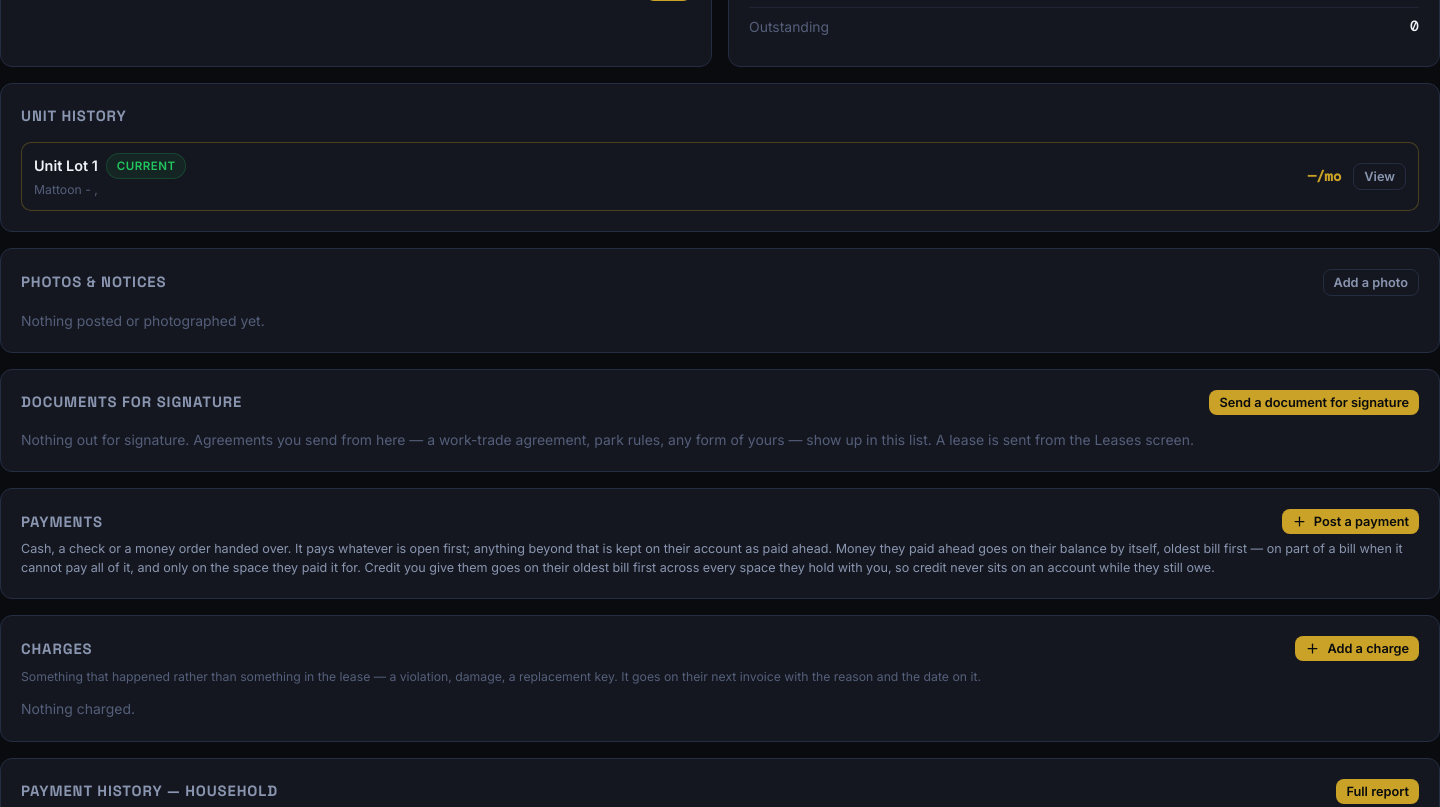
Scenario: the resident page's signing door › has nothing to send when every form needs somebody this page cannot fill
(page scrolled)
What coordinates should you click on to do the following:
click the button "Send a document for signature"
I would click on:
 (1314, 402)
Its box is [1209,390,1419,415].
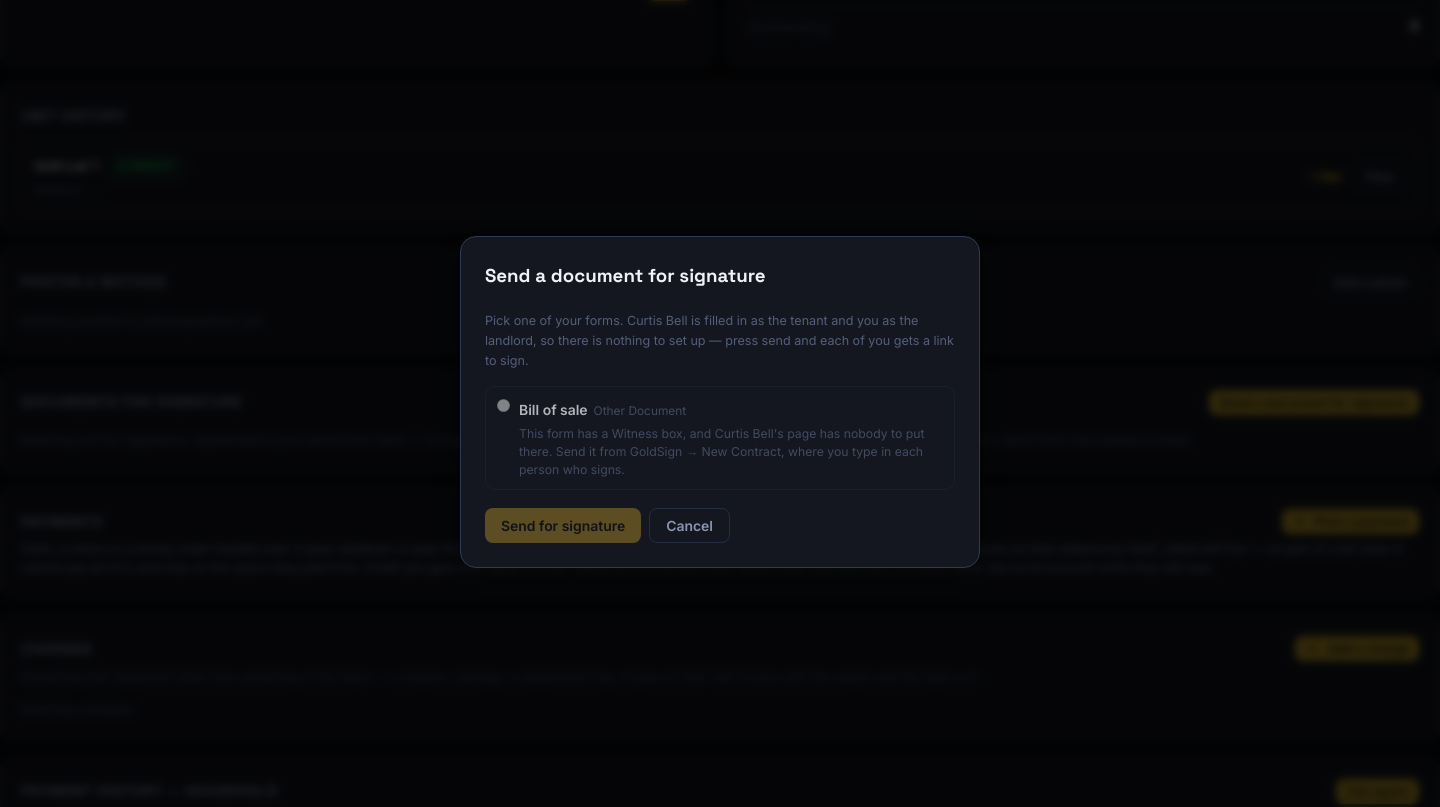
Expected: the button "Send for signature" is disabled, [485,508,641,543]
